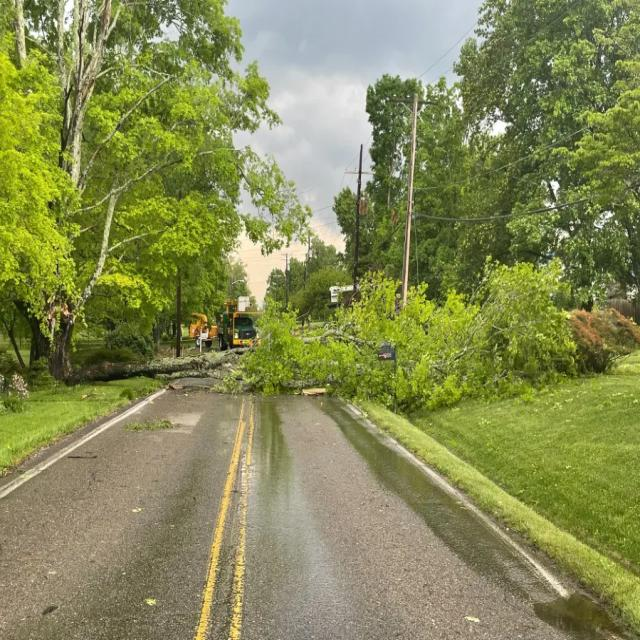road block: (36, 257, 640, 476)
